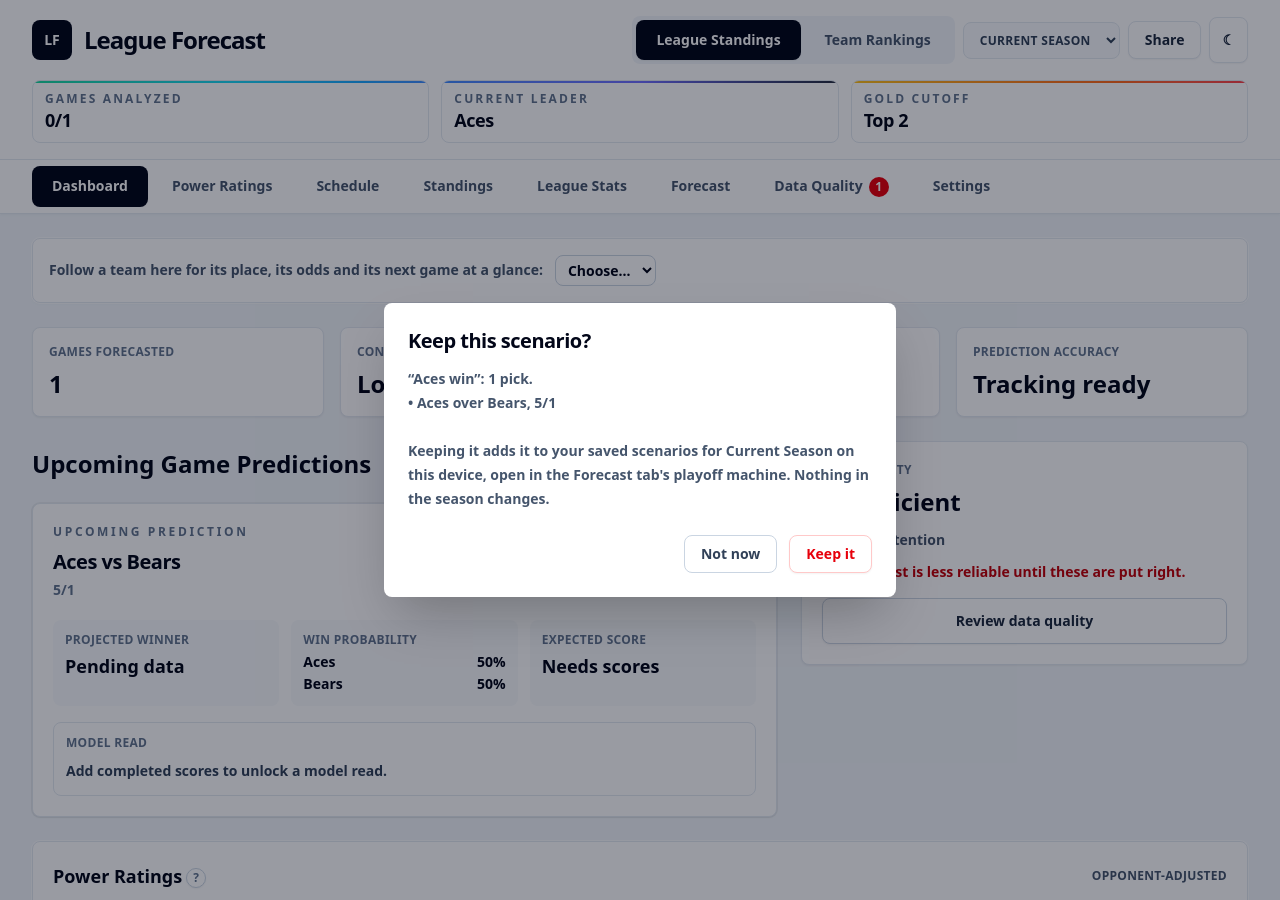
Test: League Standings kept live, on the page › asks about a scenario link once the season is the cloud's, keeping it until then
Expected: the tab "Schedule" is shown, left=296, top=166, right=399, bottom=206
Expected: the dialog "Keep this scenario?" shows "“Aces win”: 1 pick.", left=408, top=369, right=869, bottom=508
Click the button "Not now": (731, 554) left=684, top=535, right=777, bottom=573
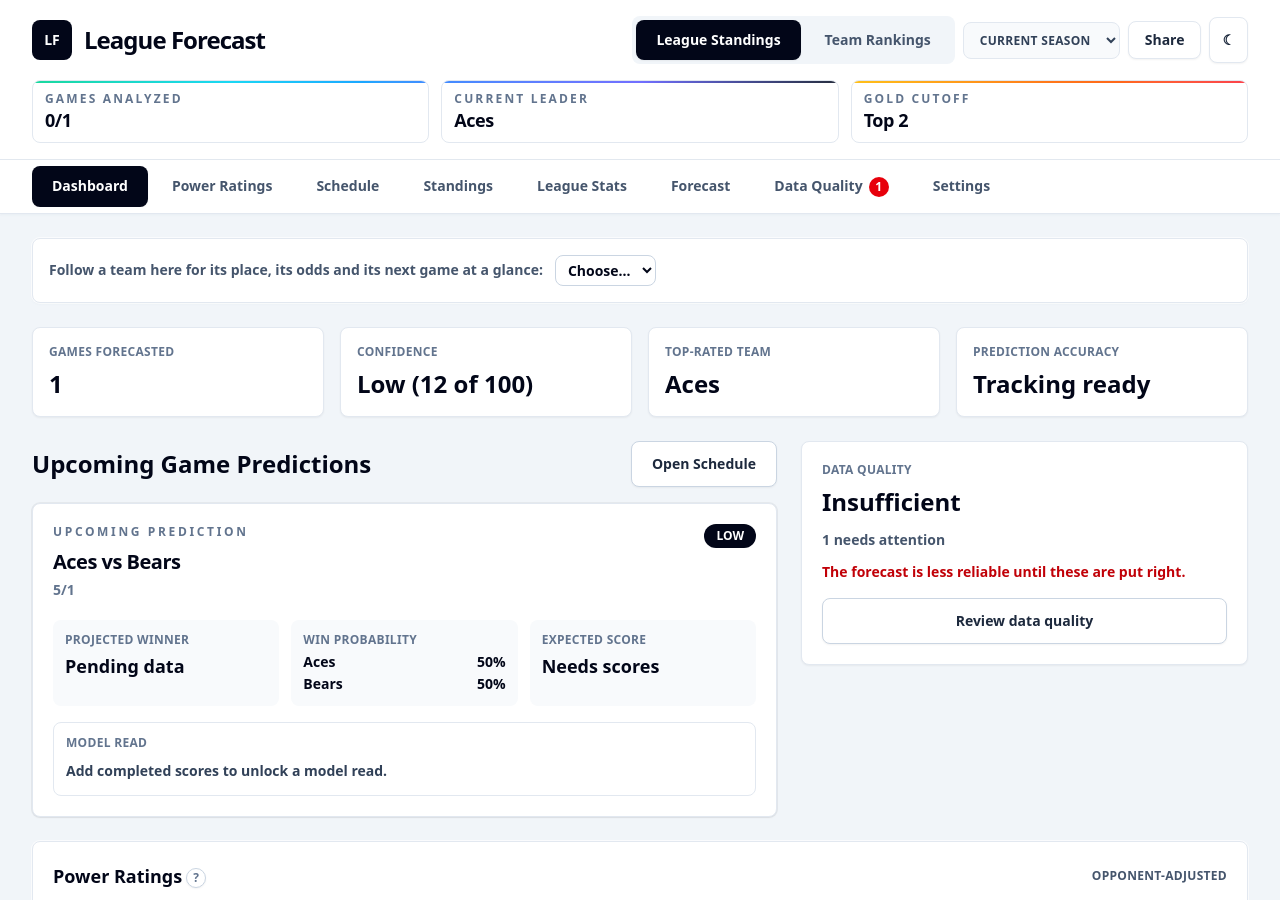
Expected: the dialog is gone
